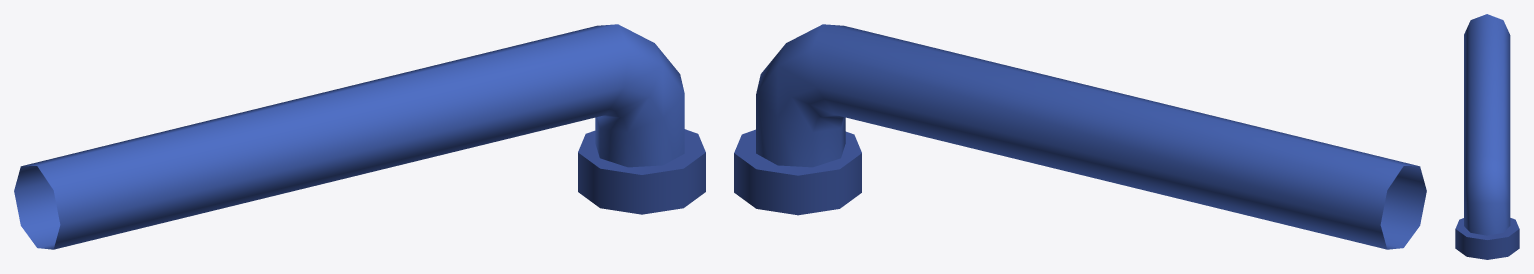
File: Pipe_1_D_2_2.fbx
The picture shows the model from 3 angles, left to right: view 1: azimuth 30°, elevation 25°; view 2: azimuth 150°, elevation 25°; view 3: azimuth 270°, elevation 25°; orthographic projection. The views are drawn at different scales.
Visible parts, largest first — view 1: Pipe_1_D_2_2; view 2: Pipe_1_D_2_2; view 3: Pipe_1_D_2_2.
Part boxes in pixels (x1,y1,x2,y2): Pipe_1_D_2_2: [14, 24, 705, 249]; Pipe_1_D_2_2: [734, 24, 1426, 249]; Pipe_1_D_2_2: [1455, 14, 1519, 259].
Size of the model in its own units: 180 by 43.92 by 30.12.
